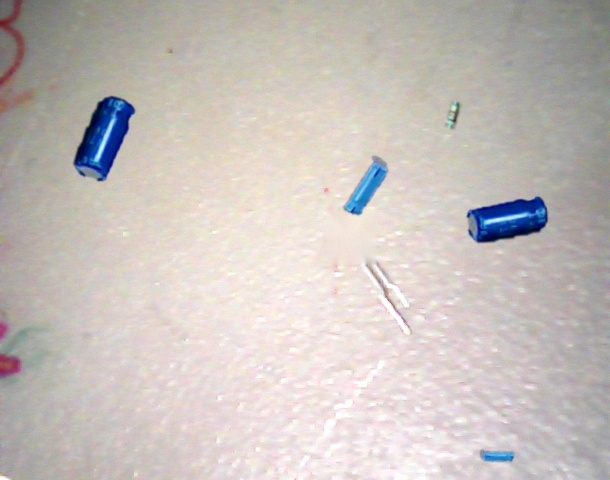capacitor: (74, 96, 135, 182), (466, 196, 548, 243), (344, 157, 388, 216), (481, 450, 514, 462)
resistor: (444, 101, 462, 130)
